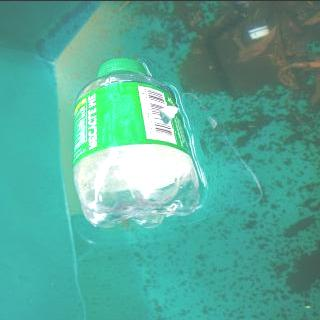bottle: (72, 56, 208, 228)
